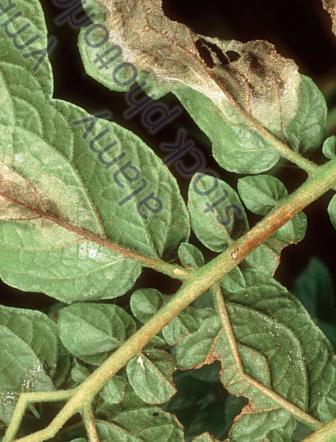Tomato leaf late blight: (78, 0, 336, 245), (0, 66, 215, 358)
